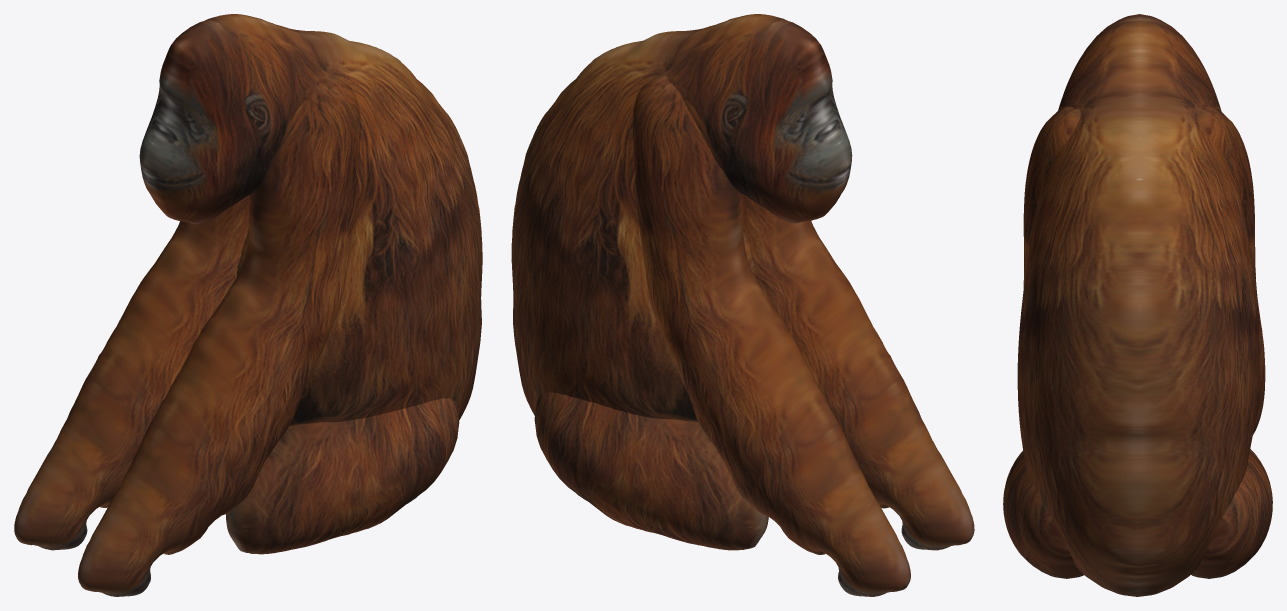
The model's file is bornean-orangutan.glb.
3 views of the same model, side by side, from view 1: azimuth 30°, elevation 25°; view 2: azimuth 150°, elevation 25°; view 3: azimuth 270°, elevation 25° (orthographic).
Visible parts, largest first — view 1: mm_frame (34); view 2: mm_frame (34); view 3: mm_frame (34).
Part boxes in pixels (left/top/right/bottom): mm_frame (34): left=14, top=14, right=482, bottom=596; mm_frame (34): left=511, top=14, right=974, bottom=596; mm_frame (34): left=1003, top=14, right=1272, bottom=596.
Bounding box in the file's own units: 6.33 × 7.52 × 3.51.
Materials: 1 (1 with a texture image).
